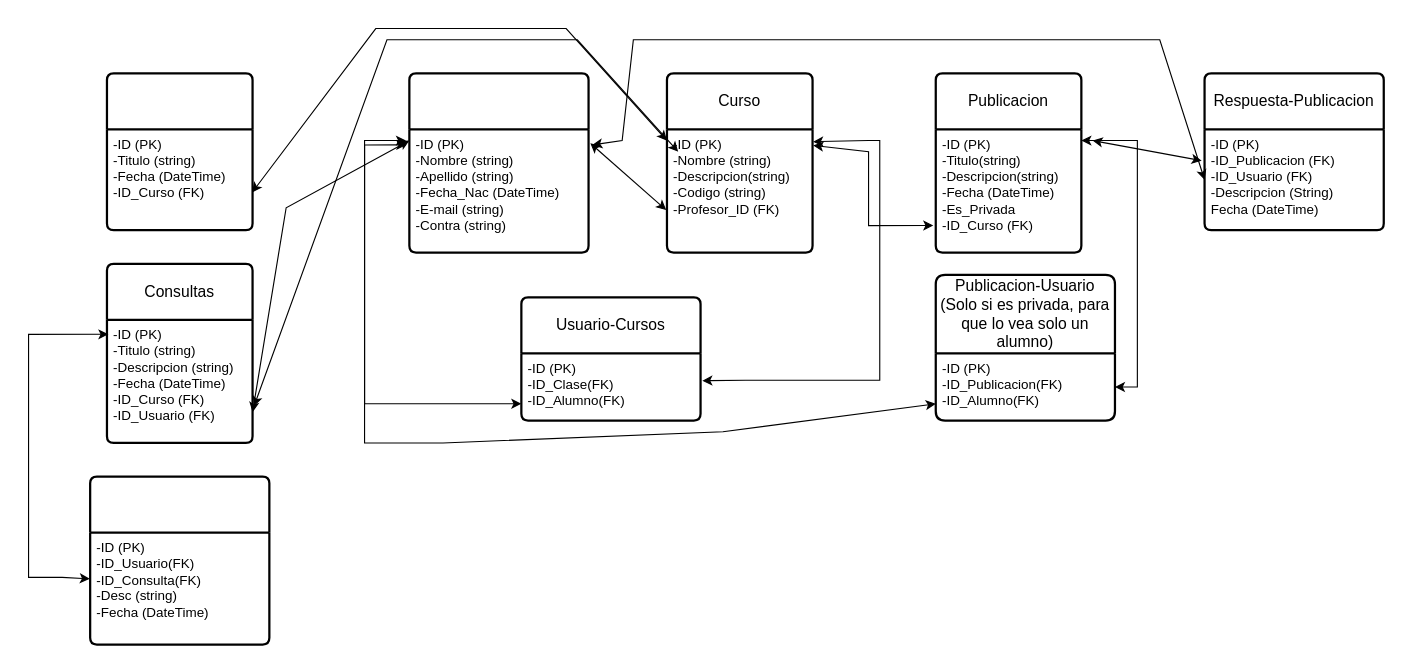
The diagram is 1404 pixels wide and 665 high, and some of its shapes have lost their labels. The box of each missing label's shape, as (x1, y1, x2, y2) in pixels:
Contenido: (105, 72, 253, 231)
Respuesta-Consulta: (88, 475, 270, 645)
Usuarios: (408, 72, 589, 253)
